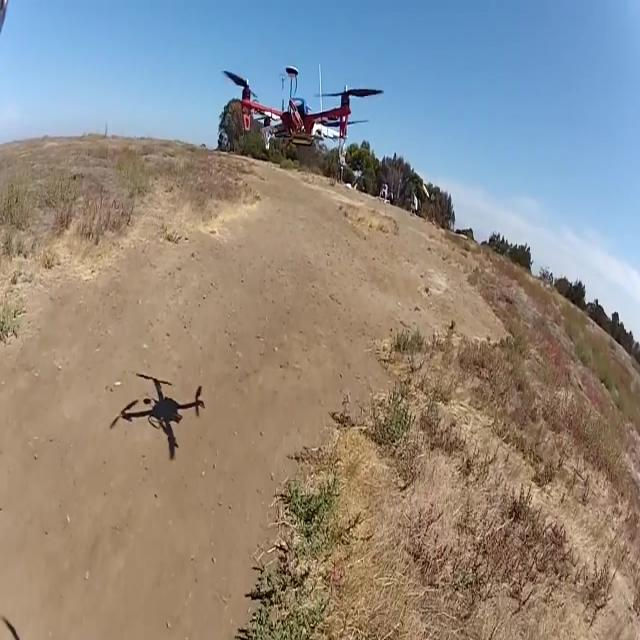iha: (220, 31, 384, 56)
